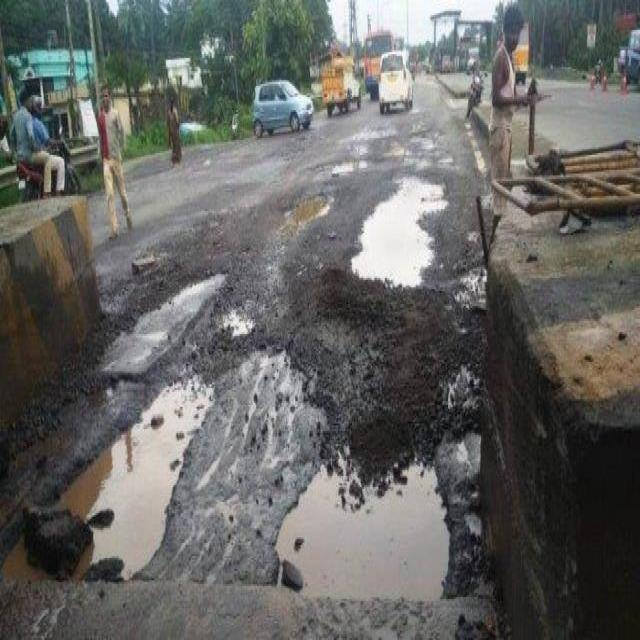lubang: (262, 336, 482, 638), (0, 347, 220, 603), (346, 172, 447, 291), (284, 188, 331, 234), (219, 302, 254, 340), (330, 155, 376, 170)
